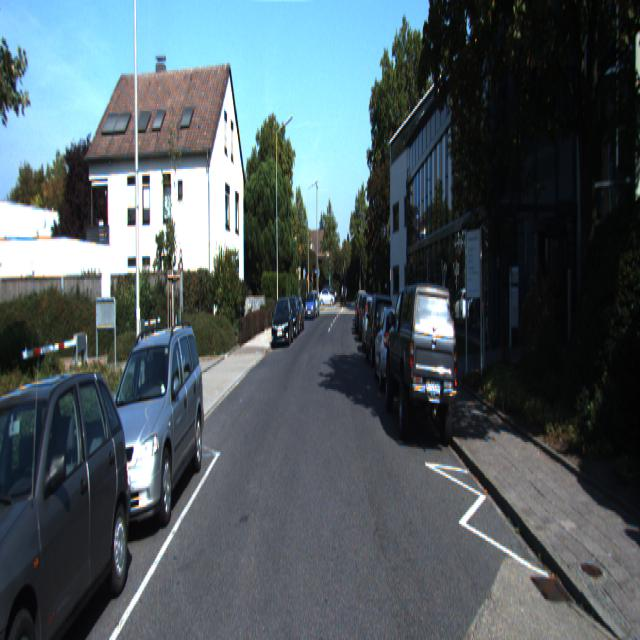Car: (0, 357, 138, 638), (88, 321, 209, 536), (386, 279, 460, 453), (374, 301, 413, 392), (366, 291, 396, 369), (362, 292, 385, 351), (271, 296, 294, 347), (304, 290, 316, 319)
